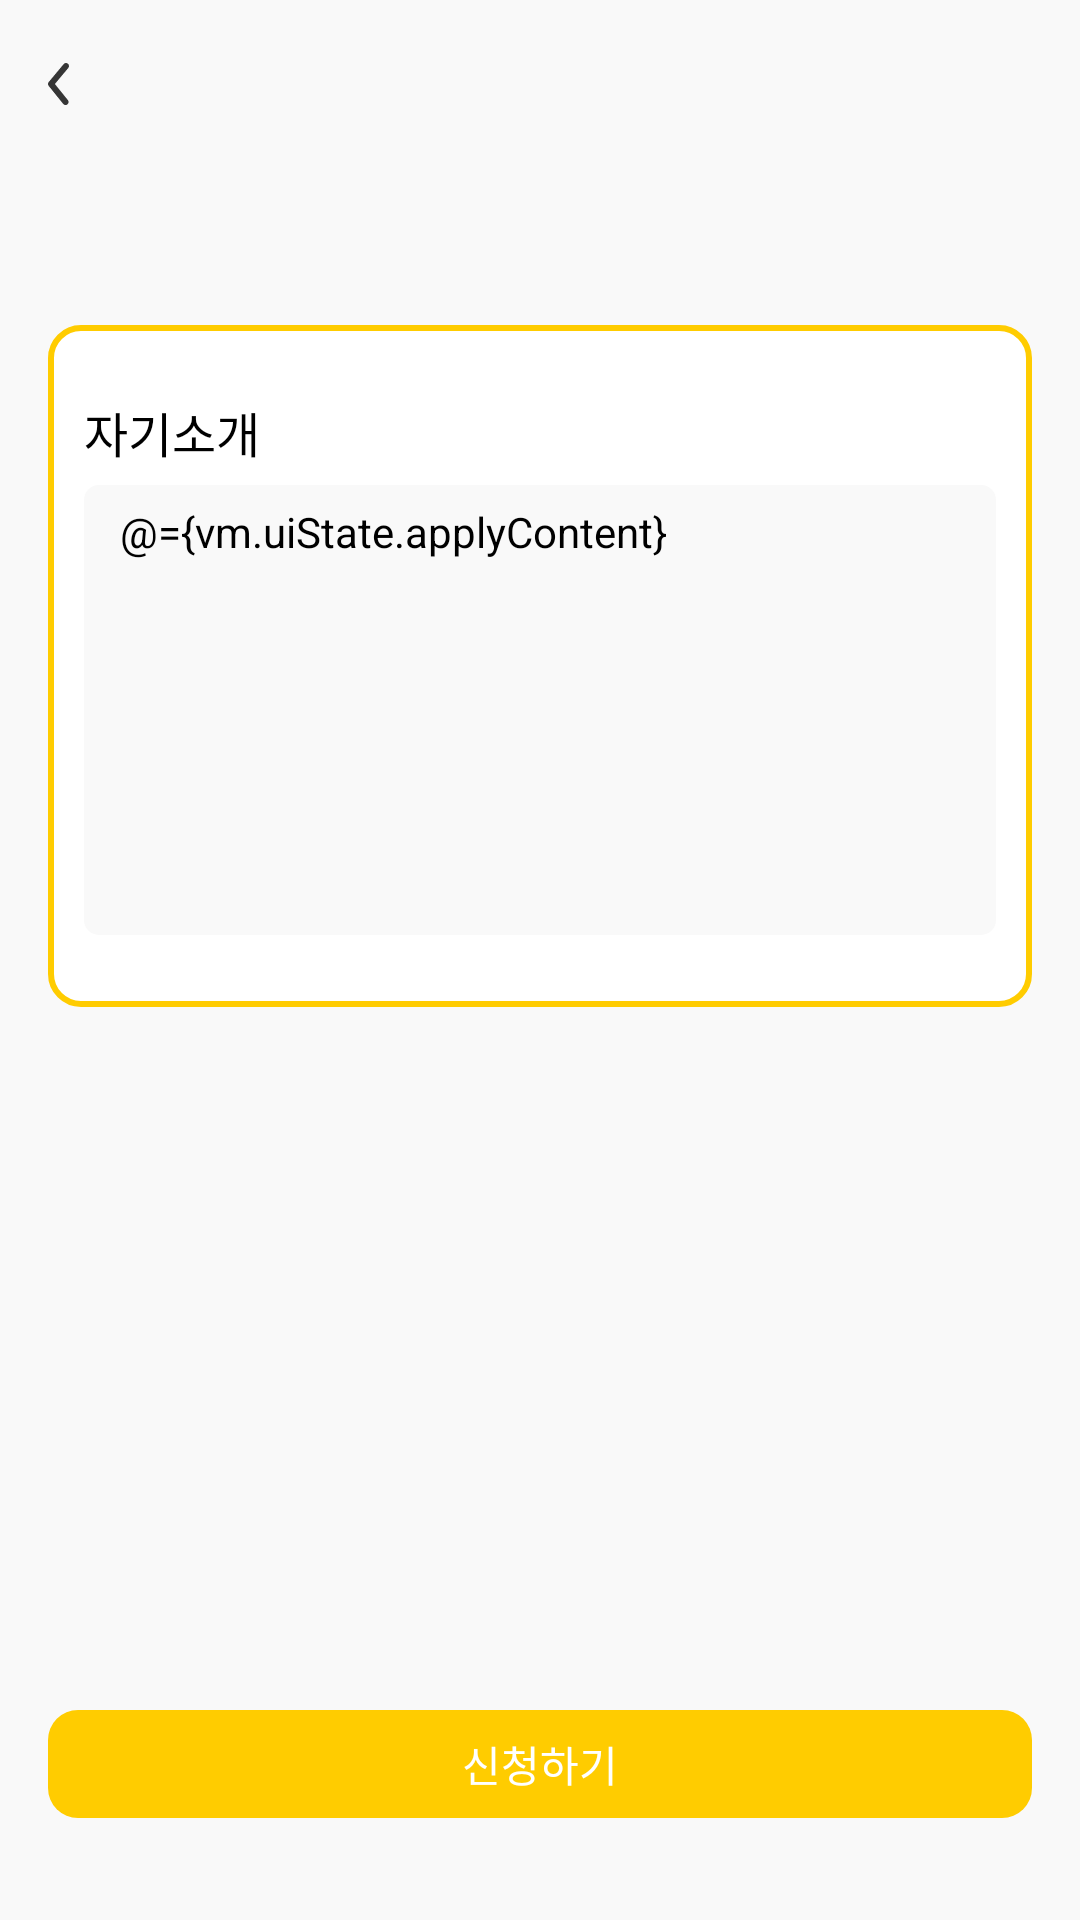

Point at icon controls on the screen. Image size 1080*1920, points as point (x, y).
back: point (58, 84)
